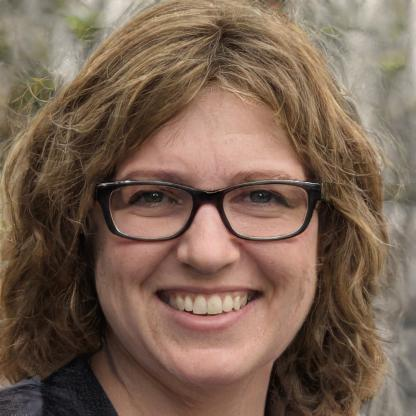glasses: (93, 172, 321, 244)
